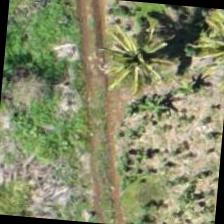Kelapa_Sawit: (92, 14, 190, 112)
